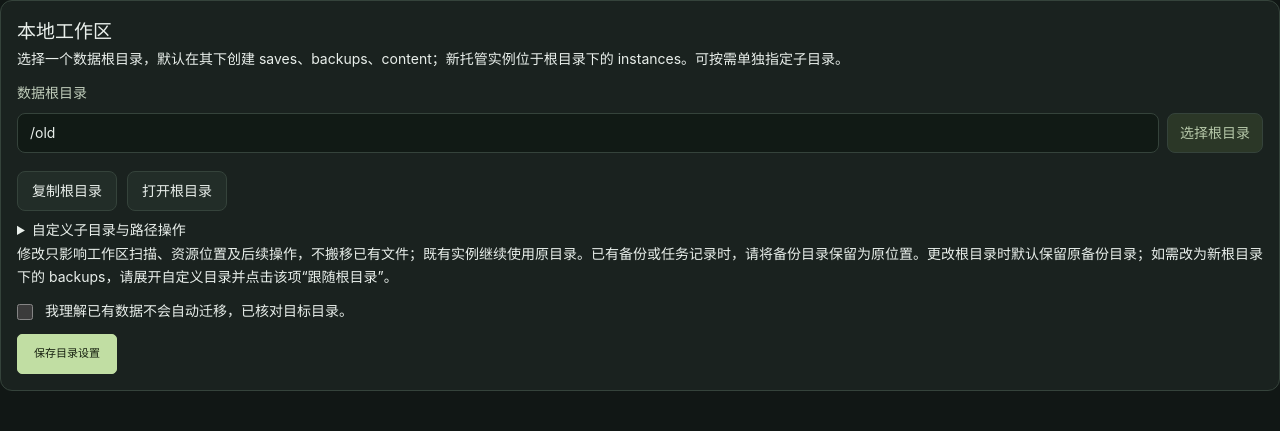
Test: edits a configured workspace with explicit acknowledgement and reports backend failure
The image size is (1280, 431).
Check: the button "选择根目录" is enabled, box [1167,113,1263,153]
Click the checkbox at {"x": 25, "y": 312}, box [17,304,33,320]
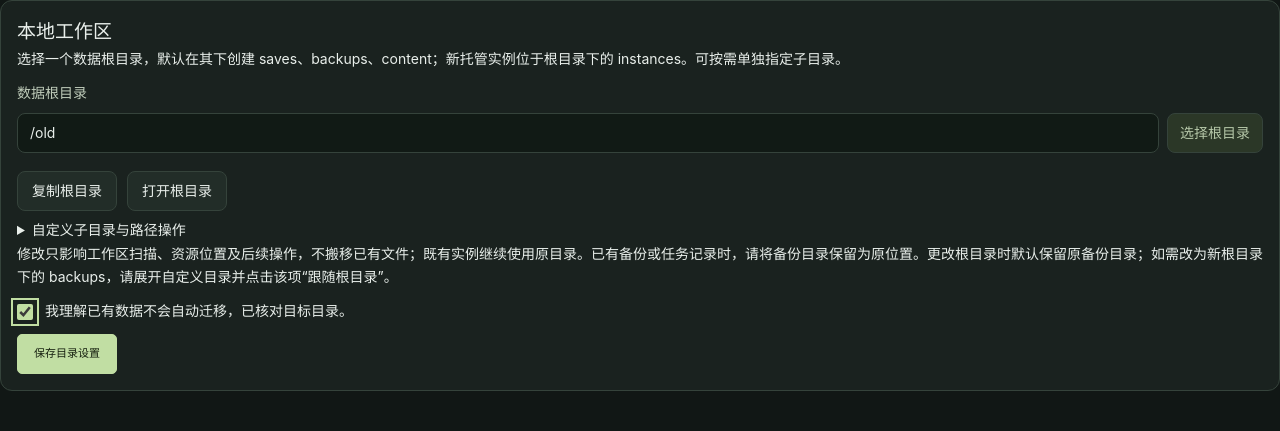
Click the button "保存目录设置" at {"x": 67, "y": 354}, box [17,334,117,374]
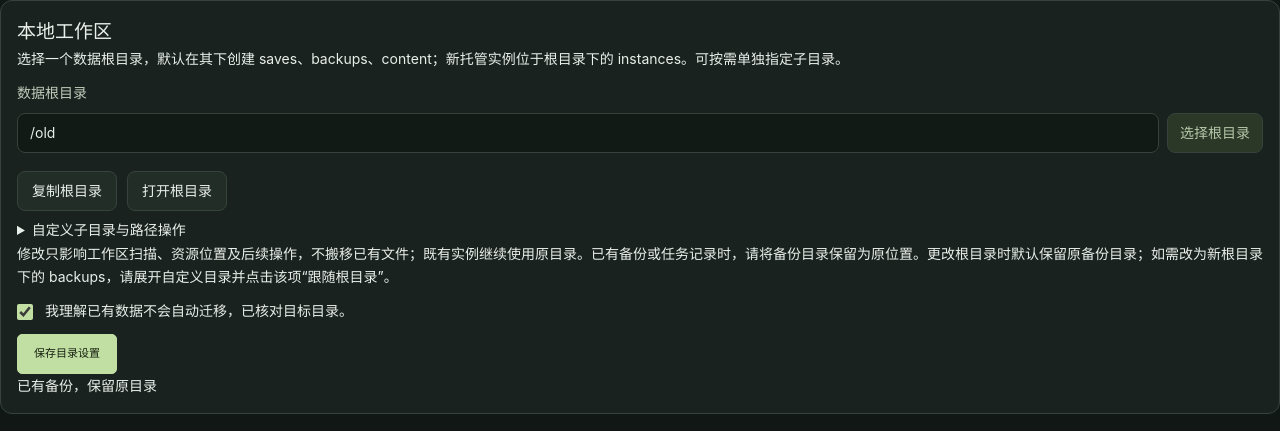
Check: the message shows "已有备份", box [17,377,157,394]
